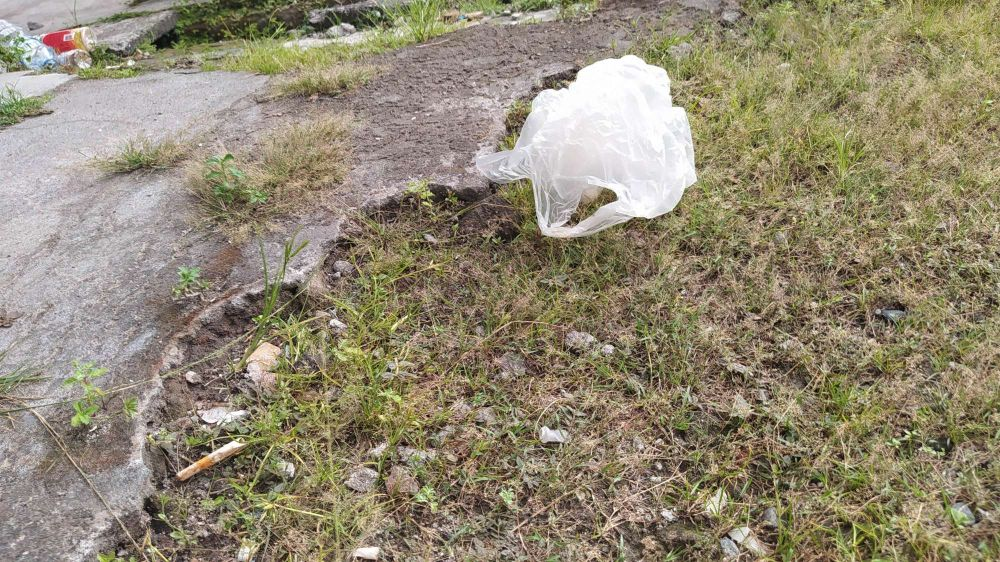plastik: (470, 46, 711, 252)
